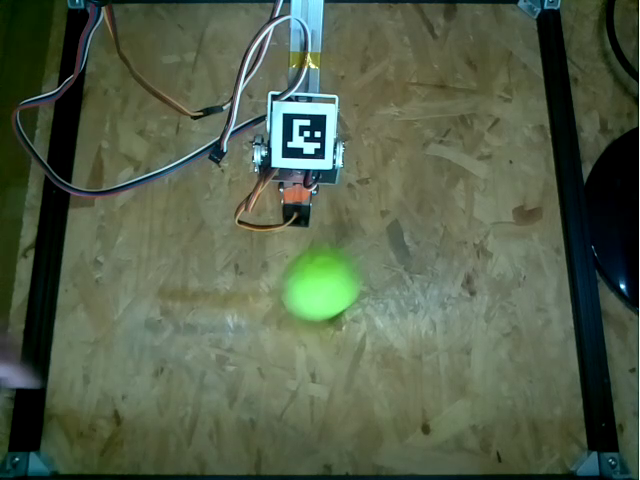tennis_ball: (282, 248, 360, 321)
